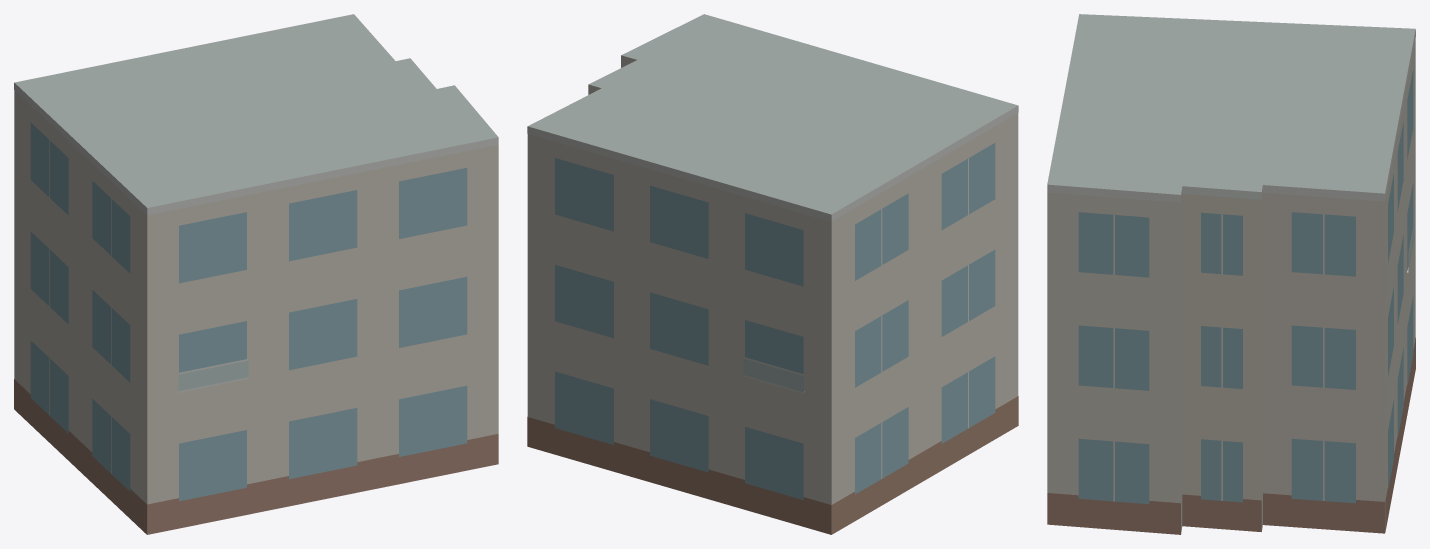
The model's file is survey-upis-33032851.glb.
3 views of the same model, side by side, from view 1: azimuth 30°, elevation 25°; view 2: azimuth 150°, elevation 25°; view 3: azimuth 270°, elevation 25° (orthographic). The views are drawn at different scales.
Parts seen in each view (by area): view 1: survey-upis-33032851.tmp; view 2: survey-upis-33032851.tmp; view 3: survey-upis-33032851.tmp.
Part boxes in pixels (x1=…): survey-upis-33032851.tmp: x1=14, y1=14, x2=498, y2=534; survey-upis-33032851.tmp: x1=527, y1=14, x2=1018, y2=534; survey-upis-33032851.tmp: x1=1047, y1=14, x2=1415, y2=534.
Bounding box in the file's own units: 12.22 × 10.7 × 10.53.
